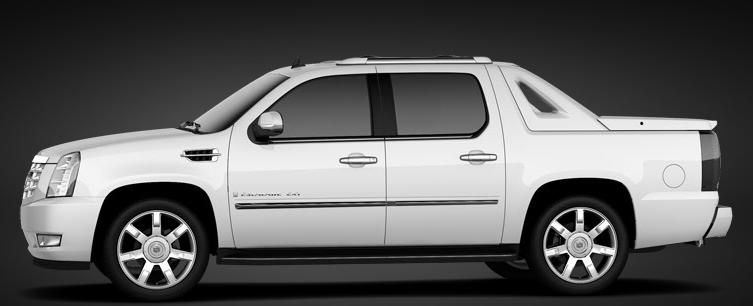car: (19, 45, 738, 303)
